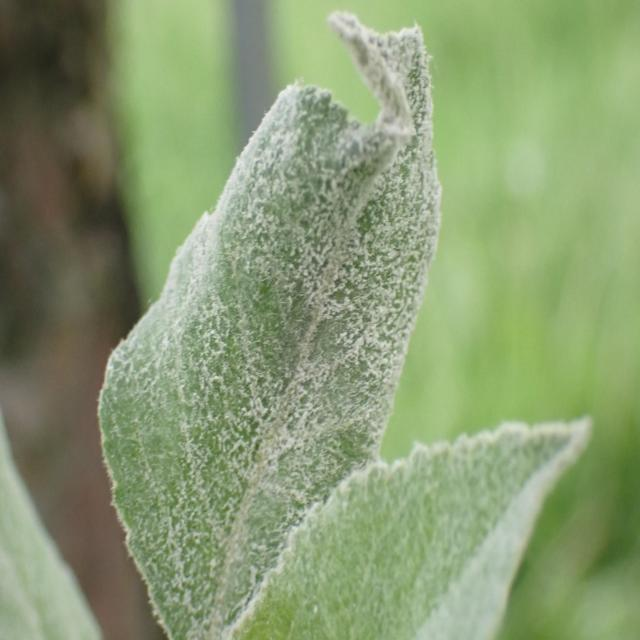Powdery_mildew: (92, 16, 434, 640), (106, 404, 606, 635)
